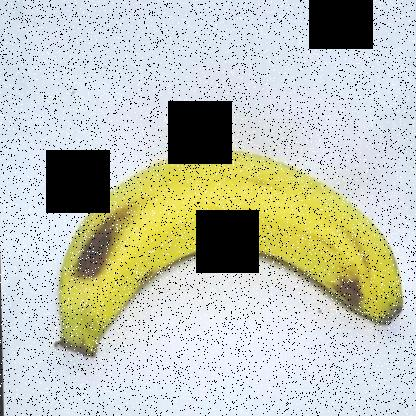freshripe: (41, 136, 410, 380)
